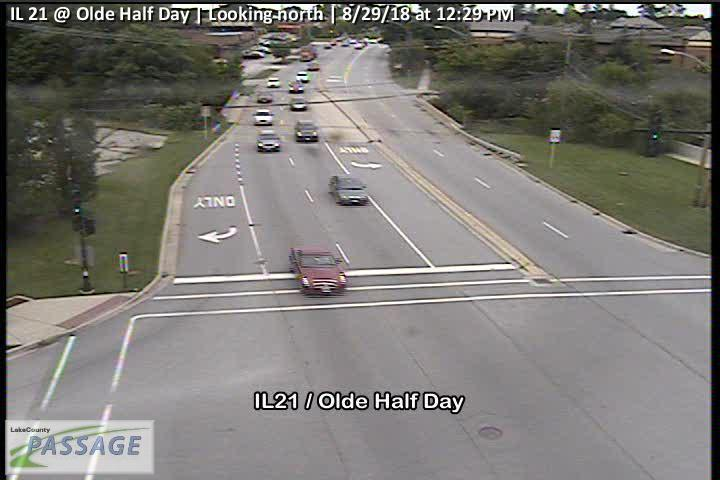SUV: (255, 129, 282, 152), (294, 120, 319, 142), (289, 97, 308, 111), (288, 80, 304, 93), (296, 71, 309, 82)
Sedan: (289, 244, 347, 295), (329, 174, 369, 205), (253, 108, 273, 126), (256, 90, 273, 102), (267, 77, 280, 88)
